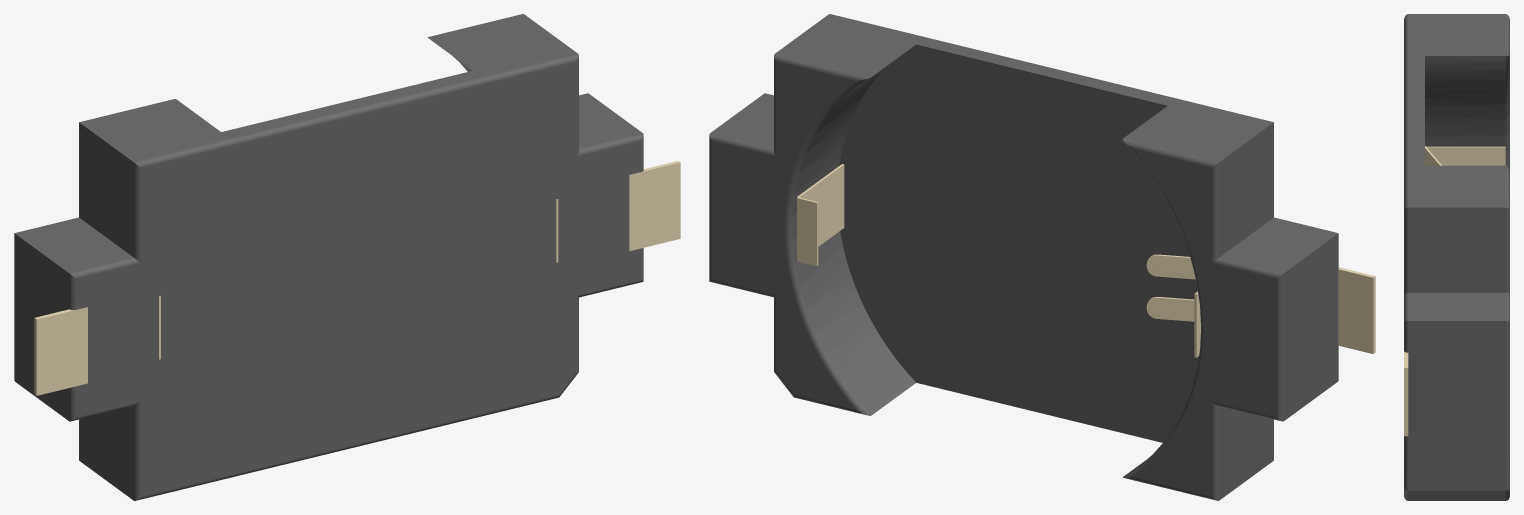
Rendered from BatteryHolder_Keystone_1060_1x2032.glb.
3 renders of one model, left to right at view 1: azimuth 30°, elevation 25°; view 2: azimuth 150°, elevation 25°; view 3: azimuth 270°, elevation 25°, orthographic. The views are drawn at different scales.
Visible parts, largest first — view 1: Shape_IndexedFaceSet.015, Shape_IndexedFaceSet.016, Shape_IndexedFaceSet.040, Shape_IndexedFaceSet.058, Shape_IndexedFaceSet.001, Shape_IndexedFaceSet.081, Shape_IndexedFaceSet.055, Shape_IndexedFaceSet.091, Shape_IndexedFaceSet.087, Shape_IndexedFaceSet.082, Shape_IndexedFaceSet.003, Shape_IndexedFaceSet.049 (+1 smaller); view 2: Shape_IndexedFaceSet.006, Shape_IndexedFaceSet.013, Shape_IndexedFaceSet.036, Shape_IndexedFaceSet.016, Shape_IndexedFaceSet.008, Shape_IndexedFaceSet.040, Shape_IndexedFaceSet.058, Shape_IndexedFaceSet.001, Shape_IndexedFaceSet.081, Shape_IndexedFaceSet.037, Shape_IndexedFaceSet.089, Shape_IndexedFaceSet.082 (+8 smaller); view 3: Shape_IndexedFaceSet.086, Shape_IndexedFaceSet.016, Shape_IndexedFaceSet.059, Shape_IndexedFaceSet.004, Shape_IndexedFaceSet.019, Shape_IndexedFaceSet.082, Shape_IndexedFaceSet.024, Shape_IndexedFaceSet.005, Shape_IndexedFaceSet.055, Shape_IndexedFaceSet.078, Shape_IndexedFaceSet.017, Shape_IndexedFaceSet.046 (+11 smaller).
Boxes of the visible parts, x1,y1,x2,y2 form: Shape_IndexedFaceSet.015: (76, 61, 641, 496); Shape_IndexedFaceSet.016: (80, 14, 577, 162); Shape_IndexedFaceSet.040: (15, 234, 69, 420); Shape_IndexedFaceSet.058: (79, 123, 133, 257); Shape_IndexedFaceSet.001: (79, 406, 133, 500); Shape_IndexedFaceSet.081: (15, 218, 133, 273); Shape_IndexedFaceSet.055: (134, 54, 578, 167); Shape_IndexedFaceSet.091: (36, 310, 76, 395); Shape_IndexedFaceSet.087: (641, 162, 680, 248); Shape_IndexedFaceSet.082: (579, 93, 642, 148); Shape_IndexedFaceSet.003: (137, 395, 559, 500); Shape_IndexedFaceSet.049: (629, 172, 641, 251); Shape_IndexedFaceSet.006: (839, 44, 1198, 442); Shape_IndexedFaceSet.013: (1133, 148, 1276, 496); Shape_IndexedFaceSet.036: (712, 61, 855, 409); Shape_IndexedFaceSet.016: (775, 14, 1272, 162); Shape_IndexedFaceSet.008: (792, 64, 915, 415); Shape_IndexedFaceSet.040: (1284, 234, 1337, 420); Shape_IndexedFaceSet.058: (1219, 123, 1273, 256); Shape_IndexedFaceSet.001: (1219, 406, 1273, 500); Shape_IndexedFaceSet.081: (1219, 218, 1337, 273); Shape_IndexedFaceSet.037: (785, 78, 870, 415); Shape_IndexedFaceSet.089: (1338, 269, 1373, 353); Shape_IndexedFaceSet.082: (710, 93, 773, 148); Shape_IndexedFaceSet.086: (1408, 321, 1505, 452); Shape_IndexedFaceSet.016: (1408, 14, 1505, 207); Shape_IndexedFaceSet.059: (1408, 207, 1505, 292); Shape_IndexedFaceSet.004: (1425, 56, 1505, 146); Shape_IndexedFaceSet.019: (1408, 453, 1505, 490); Shape_IndexedFaceSet.082: (1408, 292, 1505, 320); Shape_IndexedFaceSet.024: (1427, 147, 1505, 165); Shape_IndexedFaceSet.005: (1408, 491, 1505, 500); Shape_IndexedFaceSet.055: (1404, 14, 1408, 209); Shape_IndexedFaceSet.078: (1505, 321, 1509, 452); Shape_IndexedFaceSet.017: (1505, 55, 1509, 171); Shape_IndexedFaceSet.046: (1404, 207, 1408, 294).
Bounding box in the file's own units: 12.54 × 6.3 × 2.
